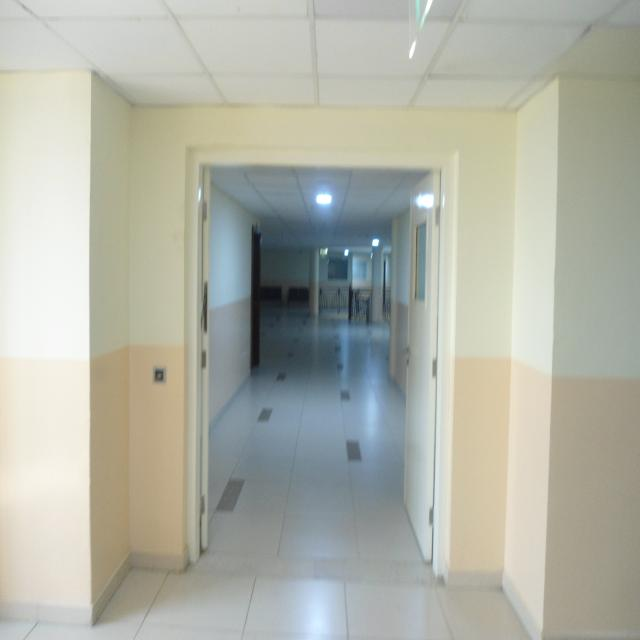door: (202, 155, 444, 580)
wall: (130, 104, 514, 590), (2, 74, 90, 613), (560, 76, 640, 640), (510, 74, 560, 637), (87, 74, 131, 613)
